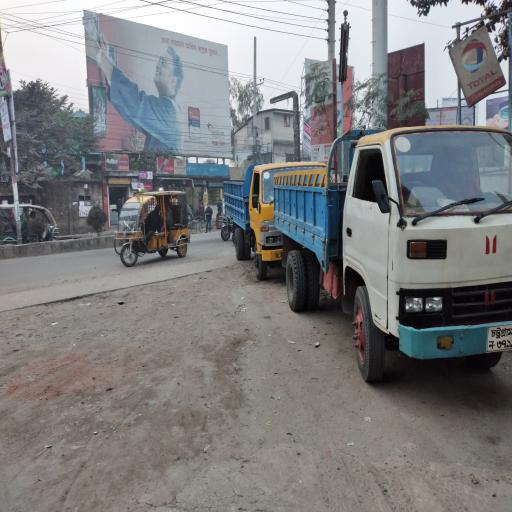auto rickshaw: (113, 190, 192, 266), (3, 200, 60, 245)
truck: (271, 132, 512, 389), (220, 162, 325, 285)
